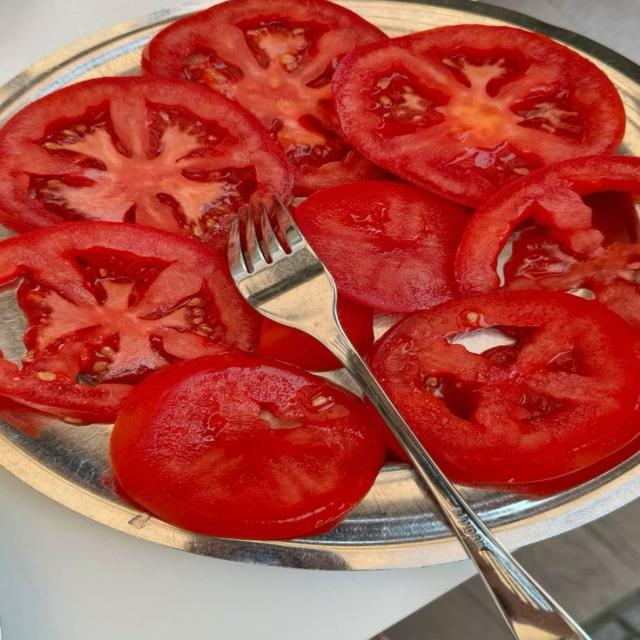sliced_tomato: (333, 25, 625, 207), (0, 222, 259, 422), (372, 292, 639, 484), (111, 355, 384, 539), (143, 0, 386, 193), (0, 77, 292, 236), (457, 155, 639, 328), (295, 181, 467, 311), (256, 318, 342, 371)
